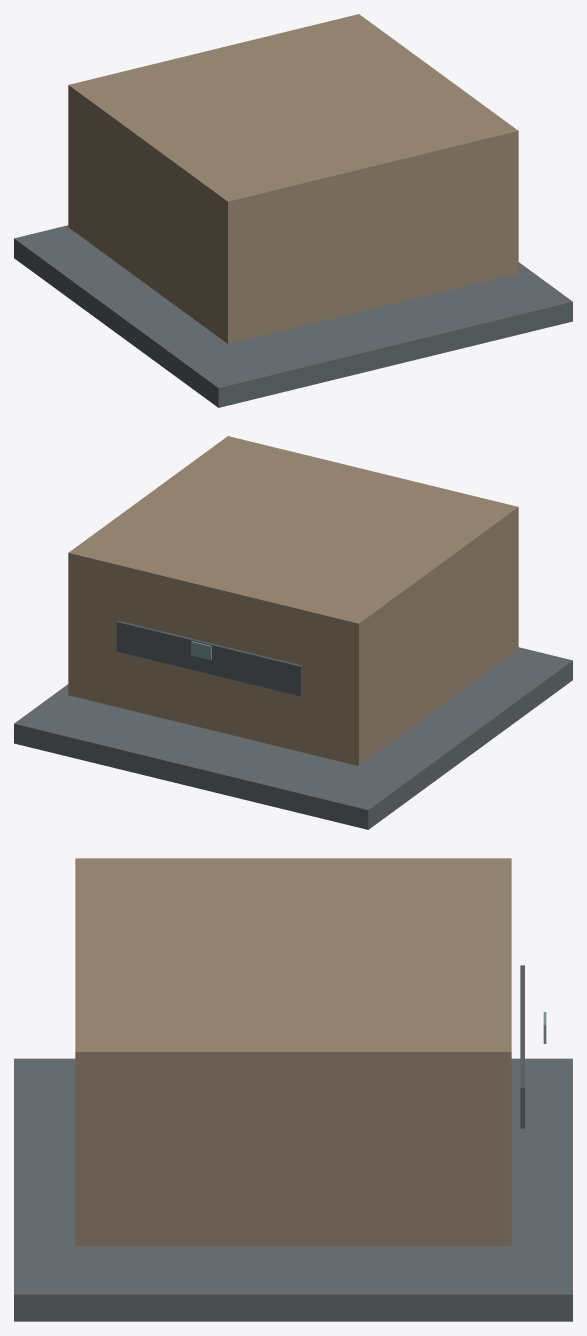
The model's file is iz3_military_barracks_02.glb.
3 views of the same model, one above another, from view 1: azimuth 30°, elevation 25°; view 2: azimuth 150°, elevation 25°; view 3: azimuth 270°, elevation 25° (orthographic). The views are drawn at different scales.
Parts seen in each view (by area): view 1: cabinet, base; view 2: cabinet, base, panel; view 3: cabinet, base, panel.
Boxes of the visible parts, x1,y1,x2,y2 form: cabinet: [68, 14, 518, 343]; base: [14, 225, 572, 407]; cabinet: [68, 436, 518, 765]; base: [14, 647, 572, 829]; panel: [116, 620, 302, 696]; cabinet: [75, 858, 511, 1246]; base: [14, 1058, 572, 1321]; panel: [520, 965, 524, 1128].
Bounding box in the file's own units: 6 × 2.94 × 6.
